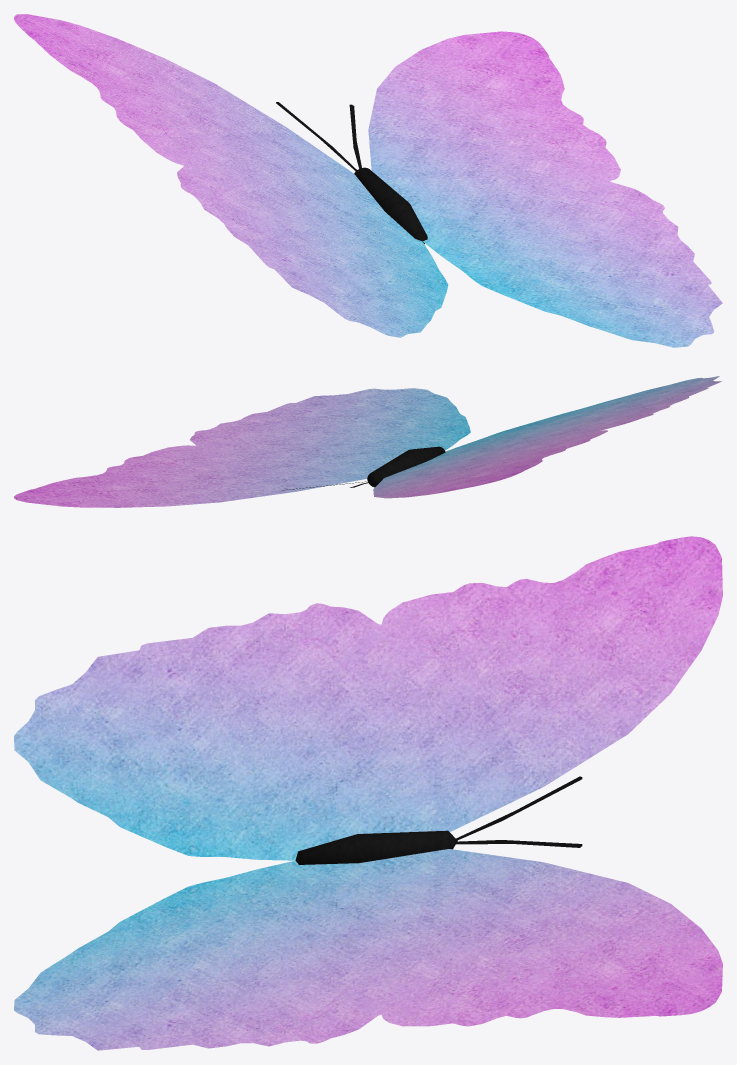
Rendered from mariposa.obj.
The picture shows the model from 3 angles, top to bottom: view 1: azimuth 30°, elevation 25°; view 2: azimuth 150°, elevation 25°; view 3: azimuth 270°, elevation 25°; orthographic projection. The views are drawn at different scales.
Visible parts, largest first — view 1: Group_005, Group_004, Group_003; view 2: Group_005, Group_004, Group_003; view 3: Group_004, Group_005, Group_003.
Boxes of the visible parts, bbox=[...] form: Group_005: bbox=[368, 31, 722, 347]; Group_004: bbox=[14, 14, 448, 337]; Group_003: bbox=[354, 167, 427, 243]; Group_005: bbox=[14, 388, 470, 507]; Group_004: bbox=[373, 376, 721, 498]; Group_003: bbox=[367, 446, 445, 487]; Group_004: bbox=[14, 536, 722, 860]; Group_005: bbox=[14, 849, 722, 1050]; Group_003: bbox=[295, 830, 457, 864].
Bounding box in the file's own units: 6.9 × 2.67 × 6.81.
2 materials, 2 textured.
